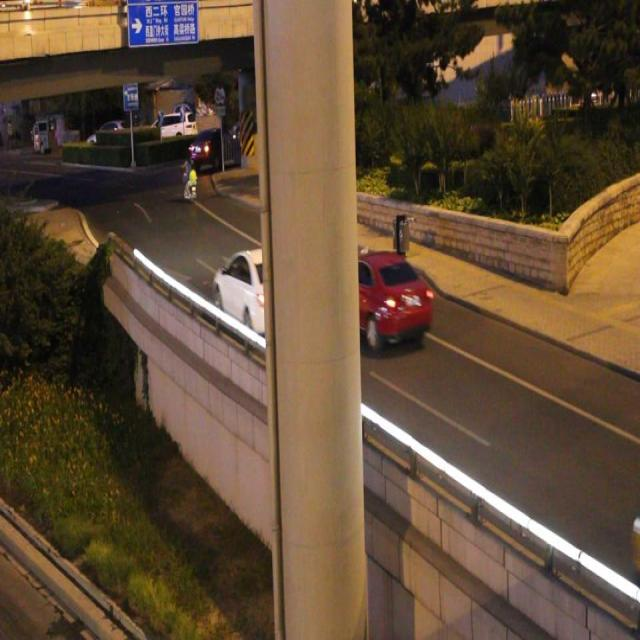car: (323, 248, 432, 349), (212, 246, 299, 338)
